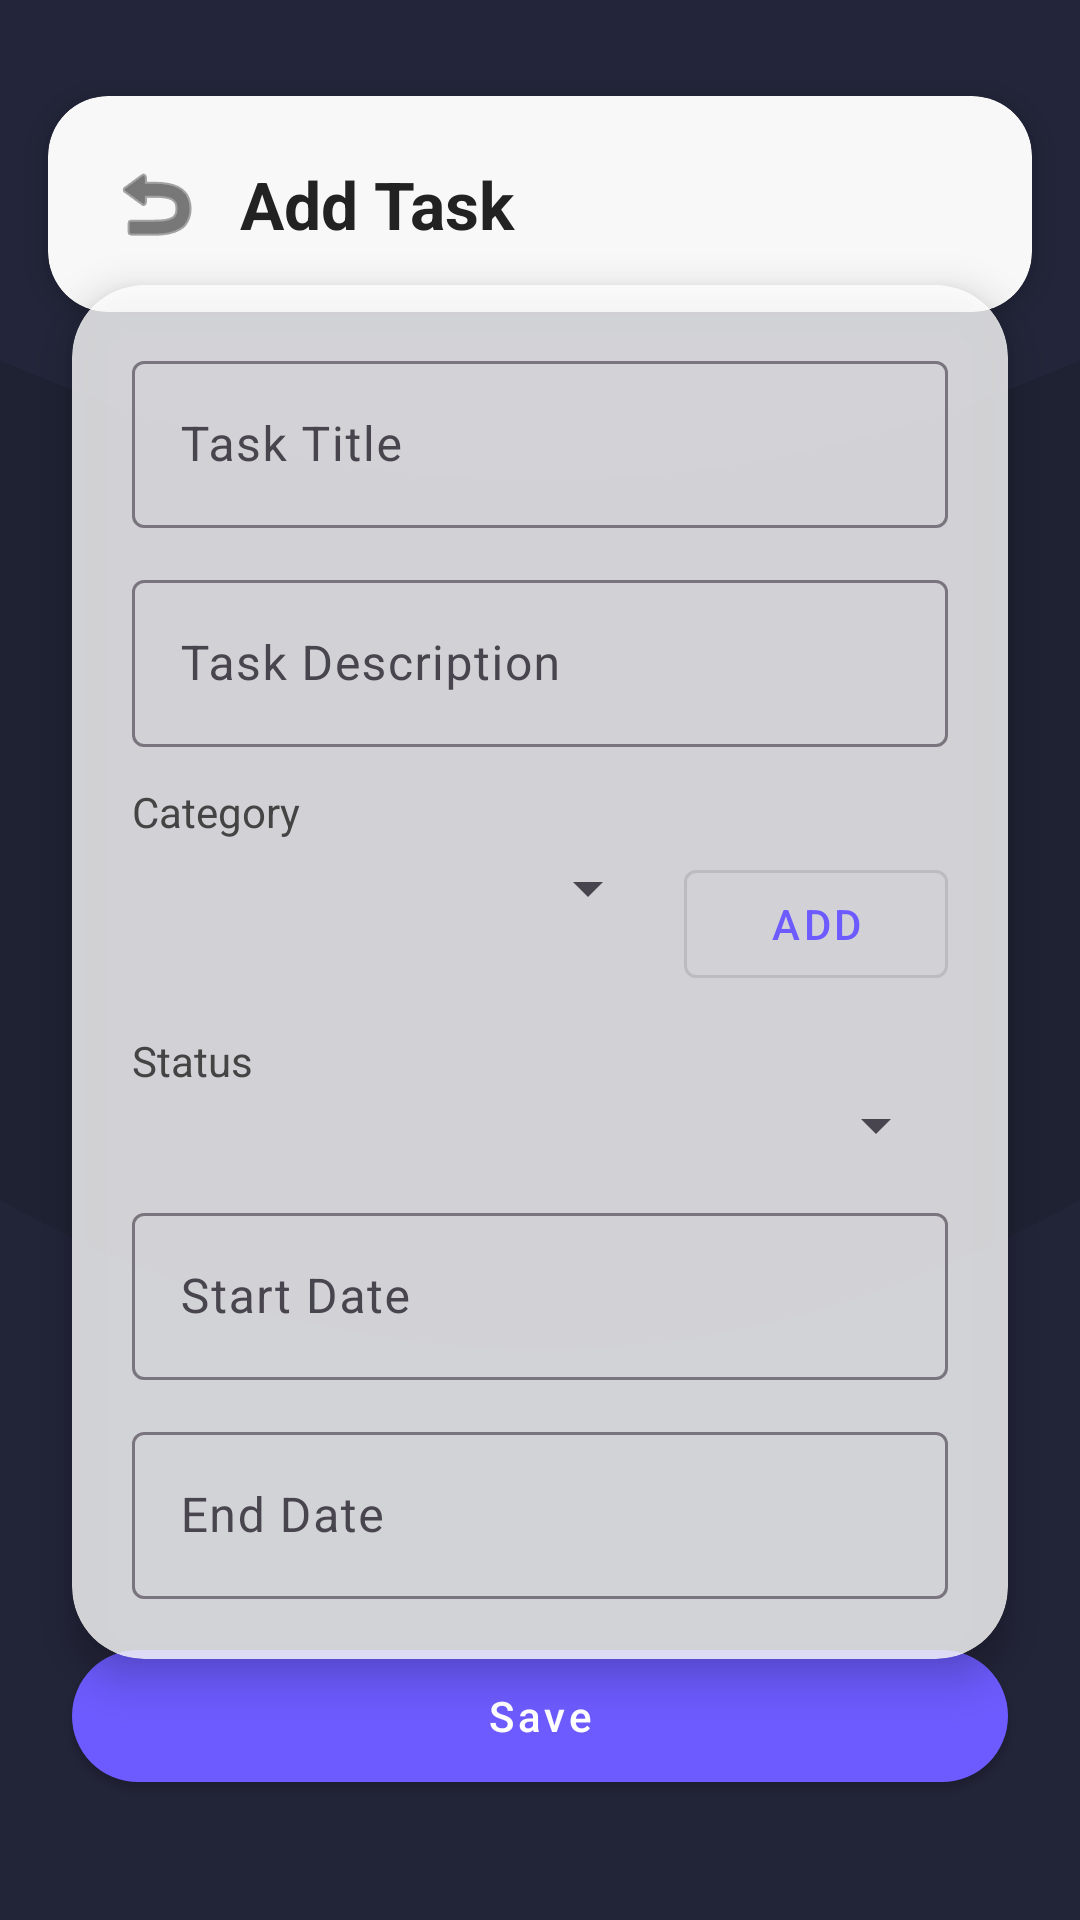

Icons on this 1080px×1920px Android screen, each with its box as (x1=x1, y1=y1, x2=x2, y2=y2):
Back: (x1=123, y1=173, x2=192, y2=236)
